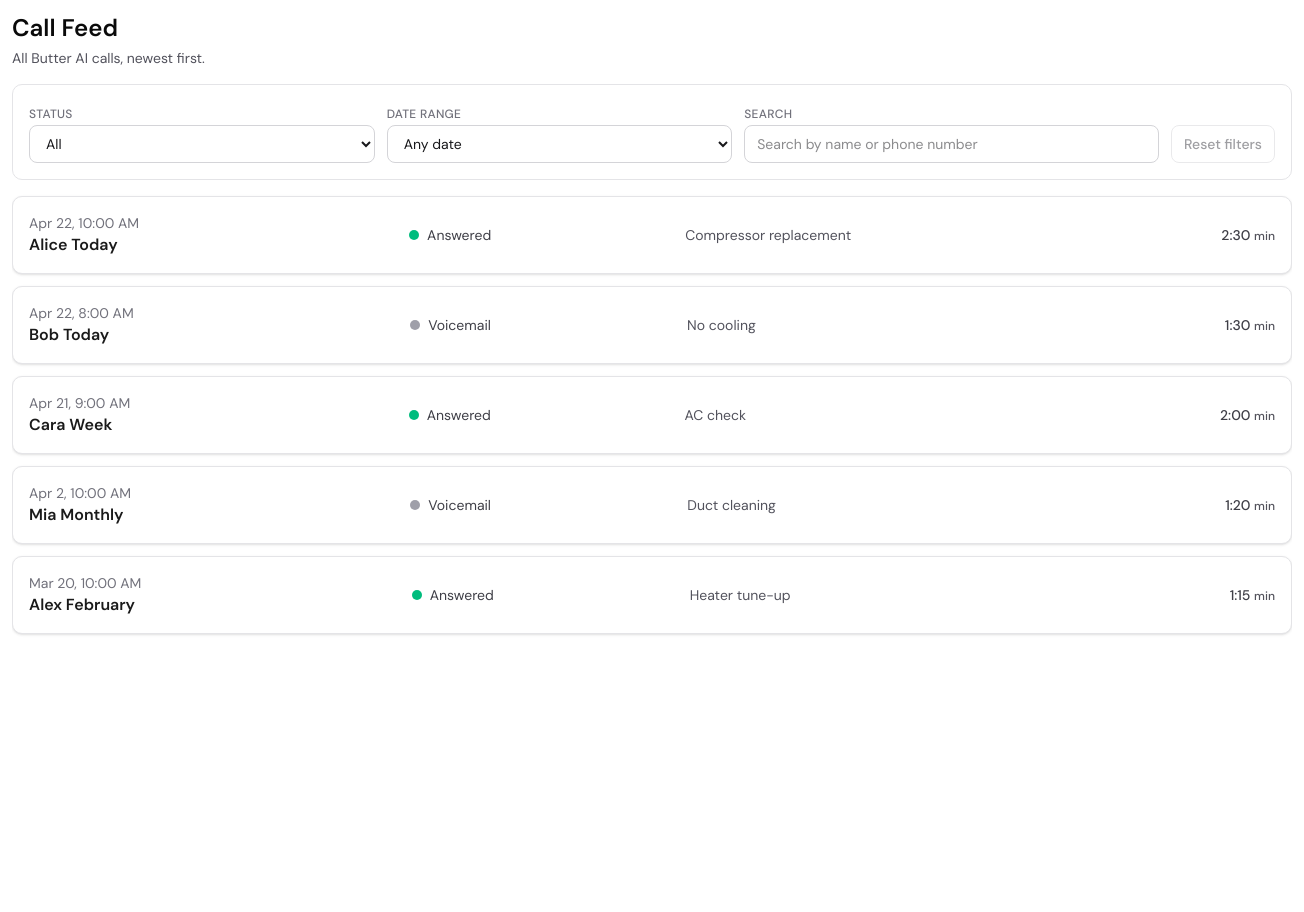
Test: CallFeed › filters by search term for name case-insensitively
Expected: the button with aria-label "Toggle details for Alice Today" is shown, [13,197,1291,273]
Type "aLiCe" into the field labelled "Search" at (952, 144), box [744,125,1159,163]
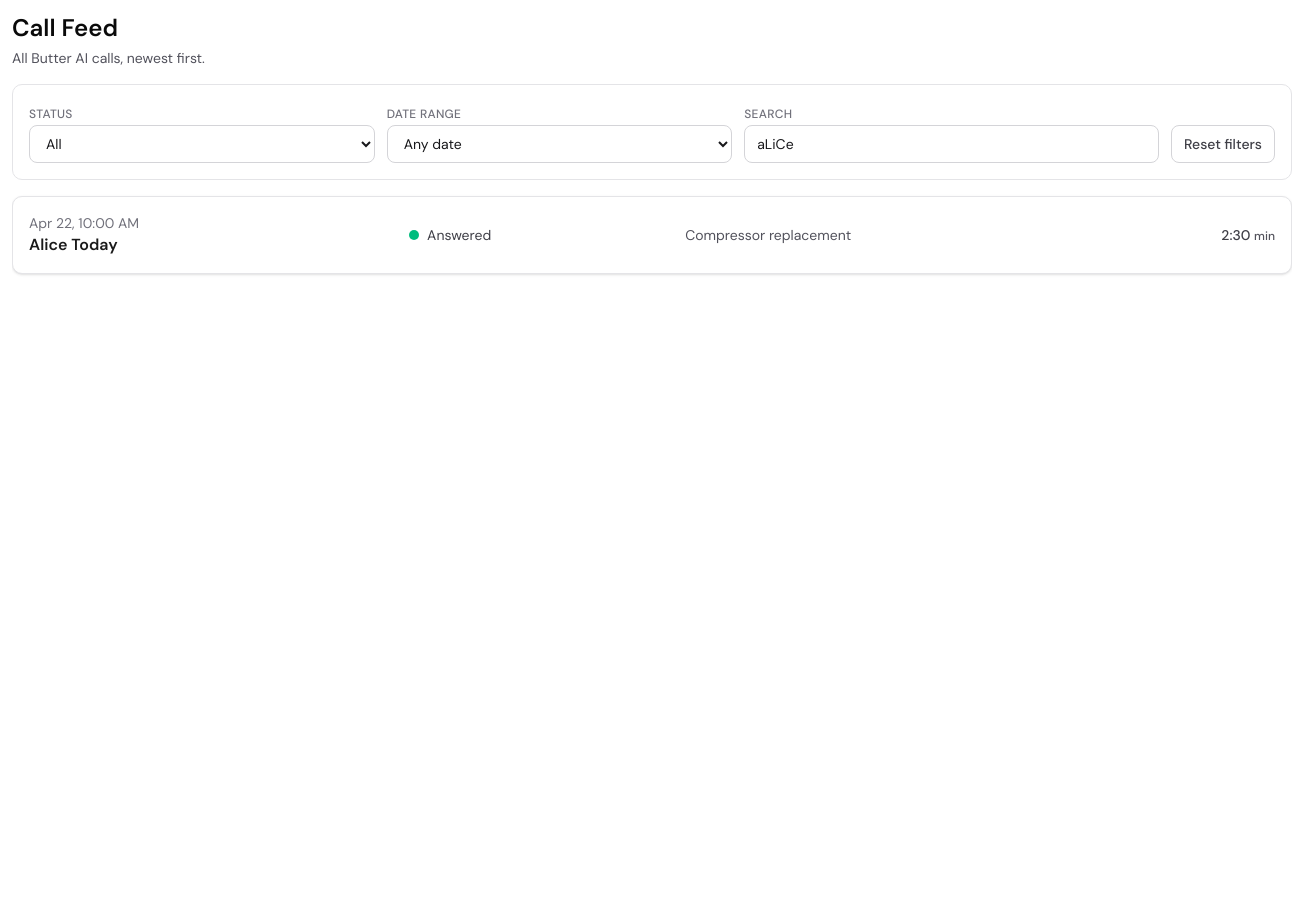
Expected: the button "Alice Today" is shown, [13,197,1291,273]
Result: the button "Bob Today" is gone
